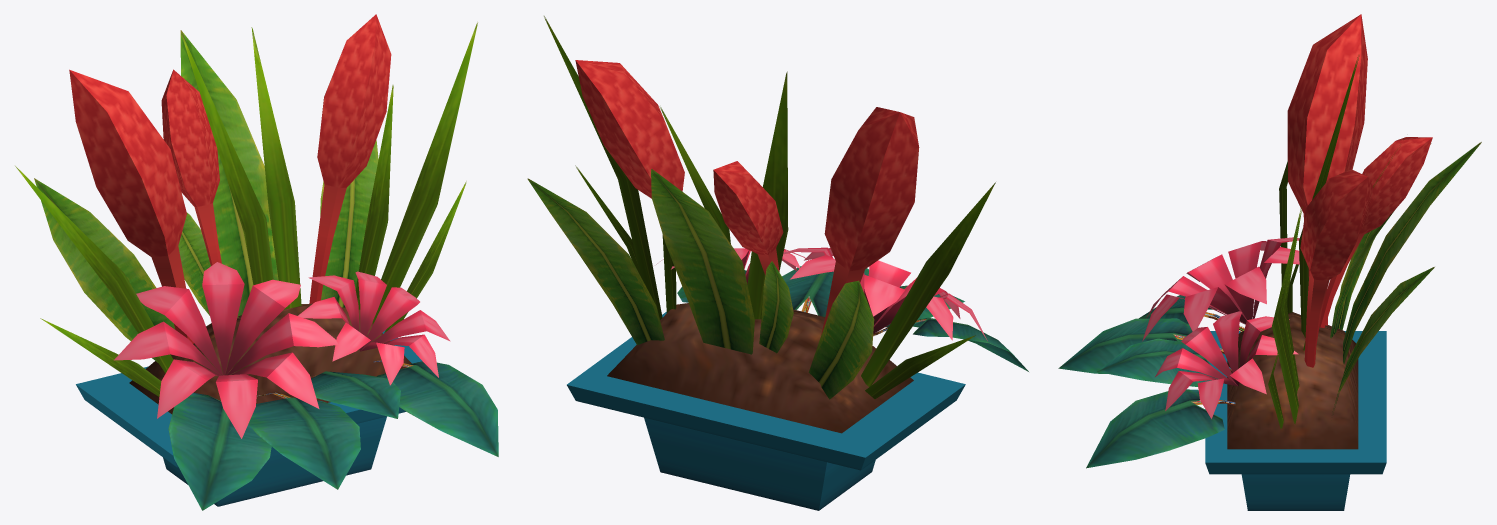
Rendered from FlowerDecoration_01.FBX.
The picture shows the model from 3 angles, left to right: view 1: azimuth 30°, elevation 25°; view 2: azimuth 150°, elevation 25°; view 3: azimuth 270°, elevation 25°; orthographic projection. The views are drawn at different scales.
Parts seen in each view (by area): view 1: FlowerDecoration_01; view 2: FlowerDecoration_01; view 3: FlowerDecoration_01.
Part boxes in pixels (<box>): FlowerDecoration_01: <box>15,14,498,510</box>; FlowerDecoration_01: <box>527,16,1028,510</box>; FlowerDecoration_01: <box>1058,14,1481,510</box>.
Size of the model in its own units: 0.6349 by 0.554 by 0.5736.
